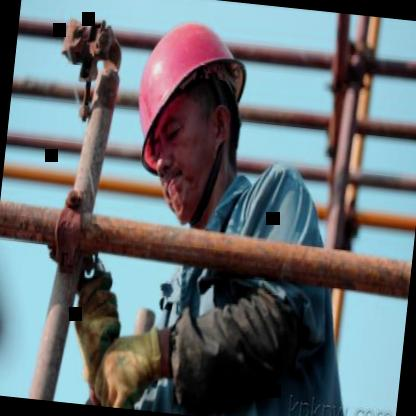helmet: (103, 0, 258, 226)
